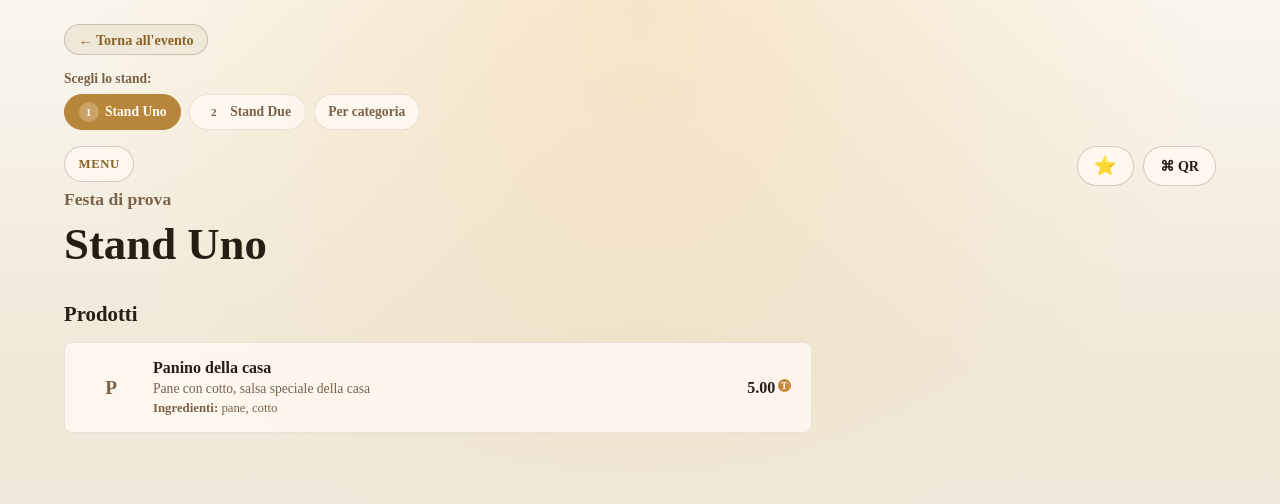
it: menu stand — etichetta degli ingredienti › la riga "Stand:" della vista per categoria NON ha l'etichetta
Expected: the text "Panino della casa" is shown, [153,359,271,376]
Click the button "Per categoria": (367, 112) [314,94,420,130]
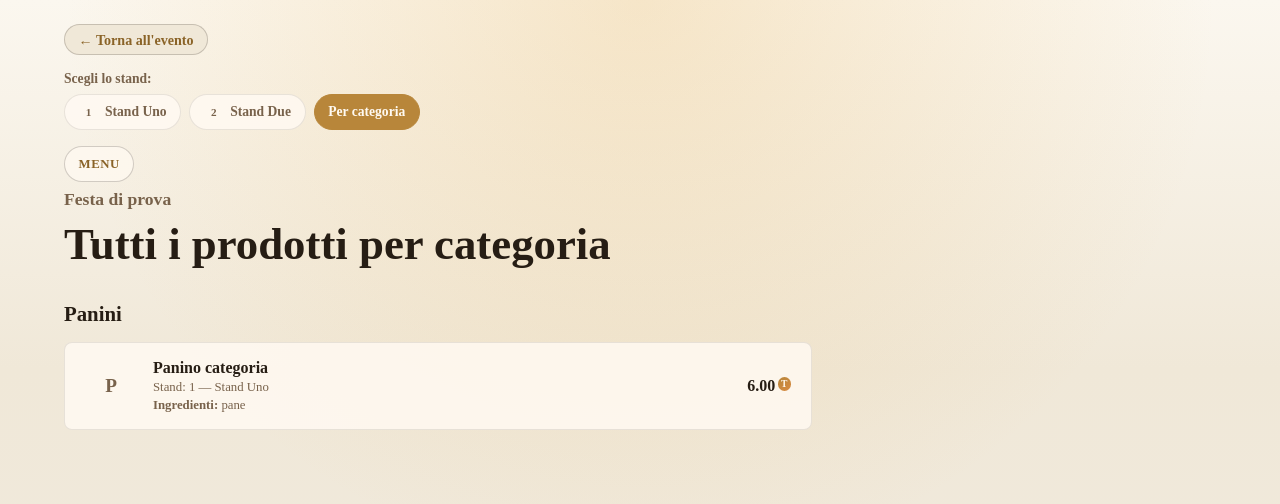
Expected: the text "Panino categoria" is shown, [153,359,268,376]
